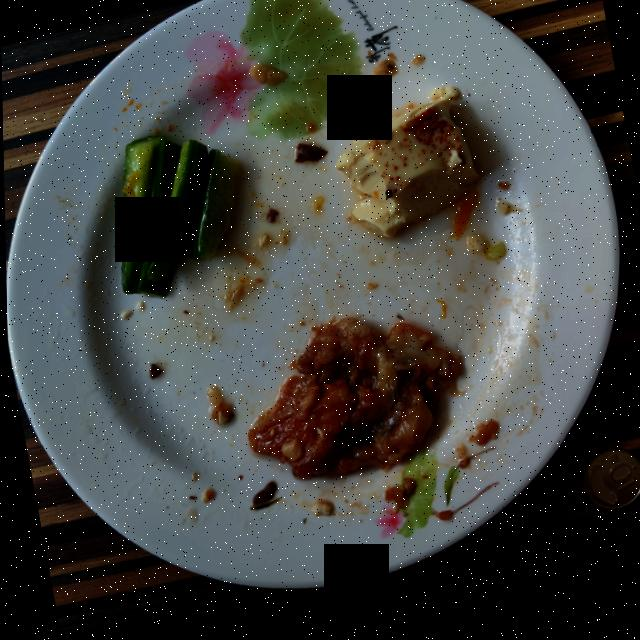Kabayaki sea bream fillet: (246, 324, 460, 483)
coin: (581, 460, 640, 521)
cucumber: (120, 138, 240, 300)
